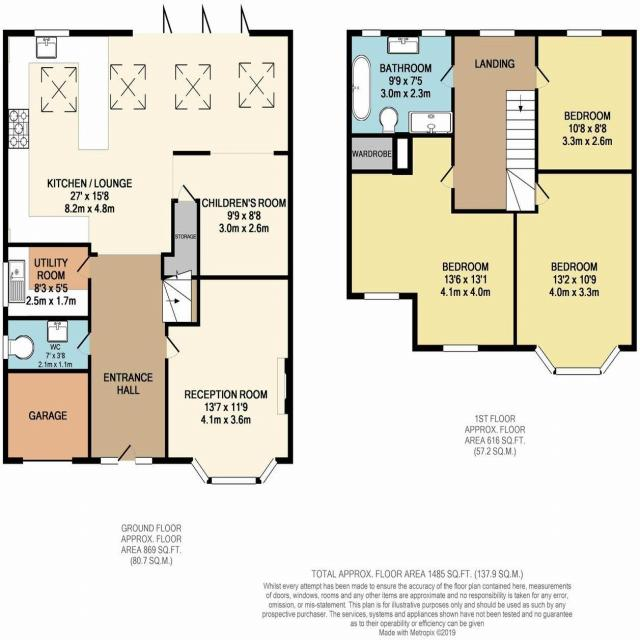DOOR: (438, 63, 455, 89), (75, 254, 92, 280), (117, 441, 136, 464), (535, 65, 552, 90), (439, 164, 455, 190), (75, 331, 91, 357), (535, 181, 550, 206), (165, 335, 180, 360)
ROOM: (3, 1, 294, 257), (346, 132, 517, 352), (164, 275, 294, 485), (513, 169, 637, 376), (535, 30, 637, 175)
WINDOW: (533, 344, 621, 376), (190, 456, 278, 486), (442, 344, 479, 353), (479, 29, 516, 38), (2, 261, 9, 308), (566, 29, 602, 38), (34, 29, 70, 38), (364, 292, 400, 300), (421, 29, 446, 38), (2, 335, 9, 360), (362, 29, 381, 38)
